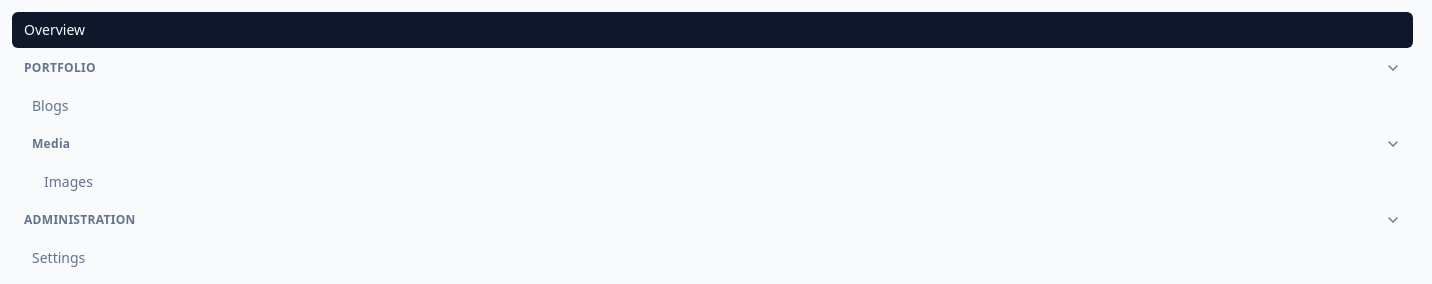
Test case: AdminSidebar › AdminSidebar_GroupButton_FoldsAndUnfoldsItsItems
Step 1. Click the button "Administration" → coordinates (80, 220), box [12, 204, 1413, 236]
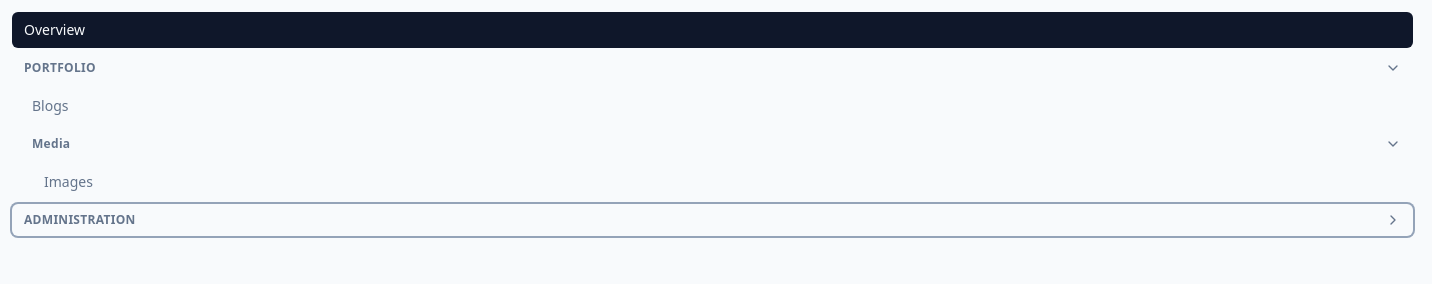
Check: the button "Administration" is collapsed
Check: the link "Settings" is gone
Step 2. Click the button "Administration" → coordinates (80, 220), box [12, 204, 1413, 236]
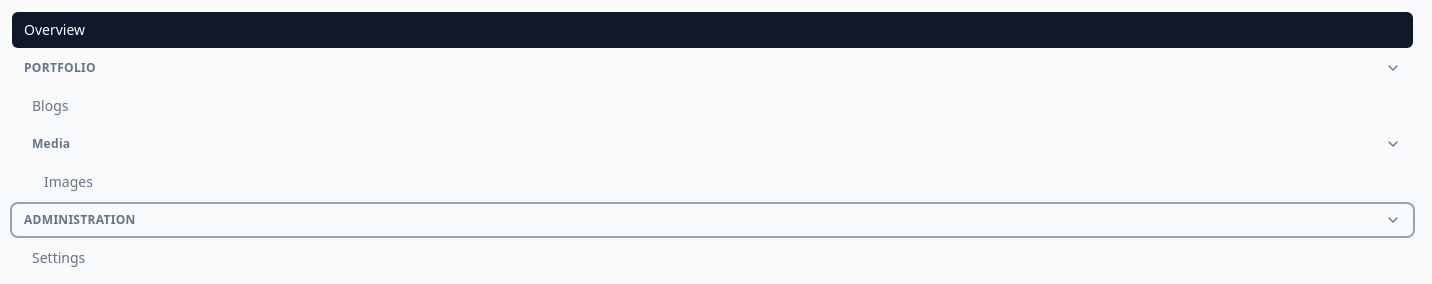
Check: the link "Settings" is shown, box [32, 248, 85, 267]
